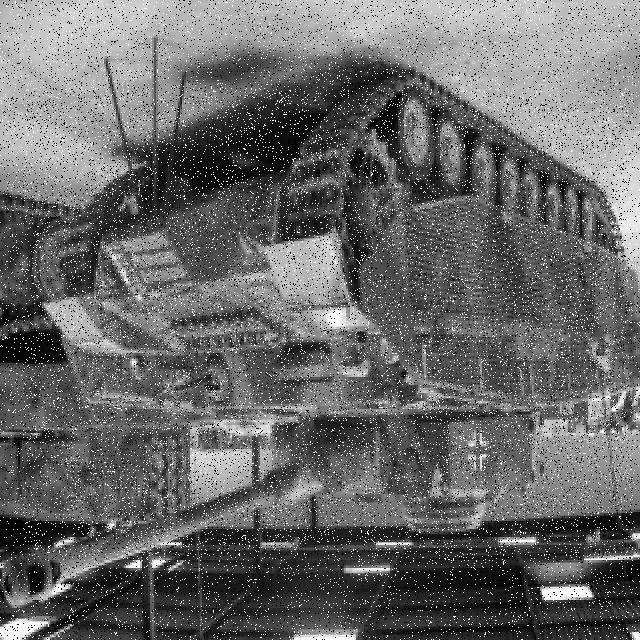MIL_MBT: (23, 88, 633, 559)
